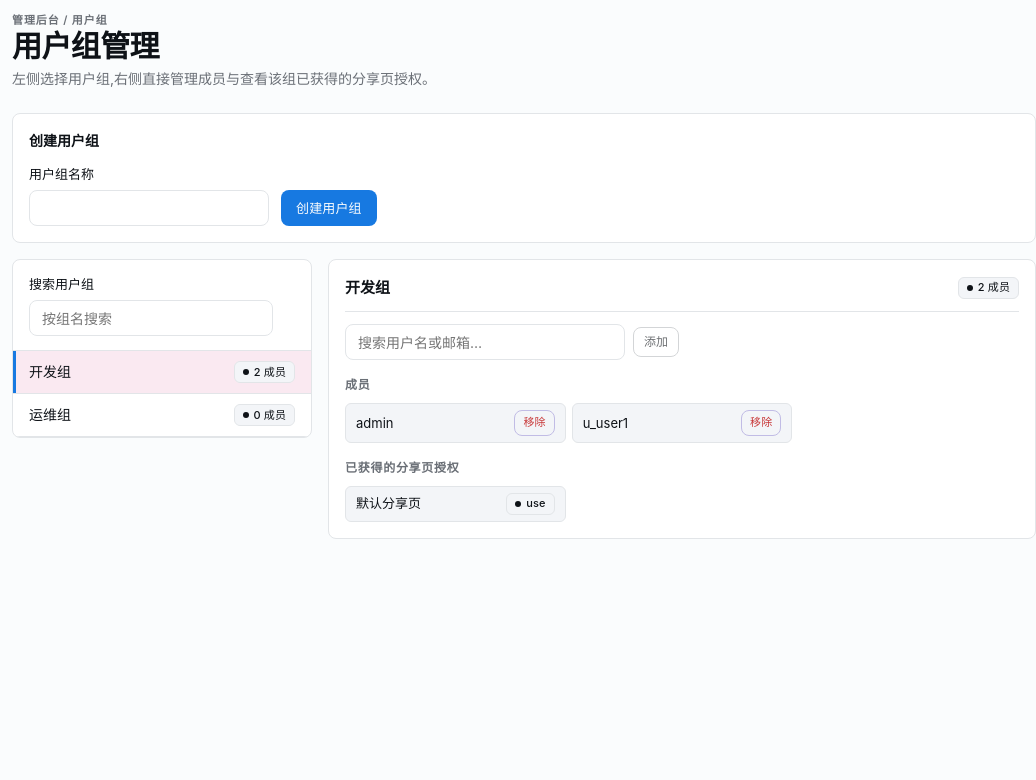
Test: GroupsAdminPage (Issue 89 master-detail) › 点击左侧另一组,右侧详情切换(成员/授权随之变化)
Expected: the button with test id "group-row-g_dev" is shown, [13,351,311,394]
Expected: the element with test id "group-detail" is shown, [328,259,1035,538]
Step 1. Click the button with test id "group-row-g_ops" → [50, 415], box [13,394,311,437]
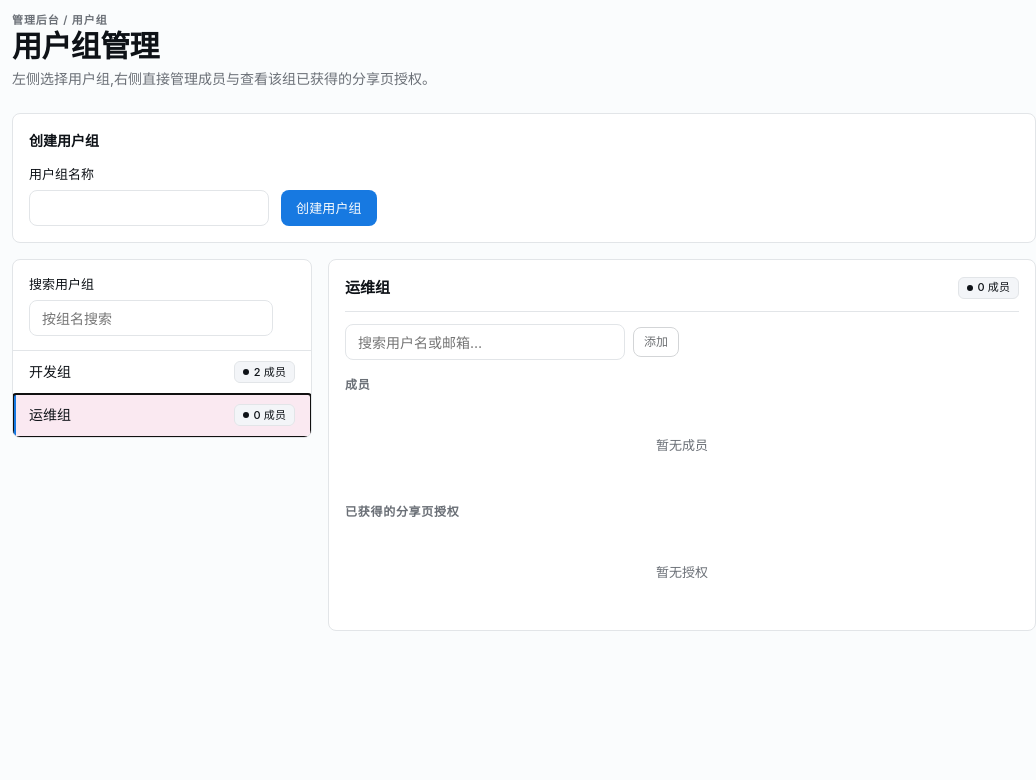
Result: the heading "运维组" is shown at [345,276,390,299]
Result: the text "暂无成员" is shown at [656,437,708,453]
Result: the text "暂无授权" is shown at [656,564,708,580]
